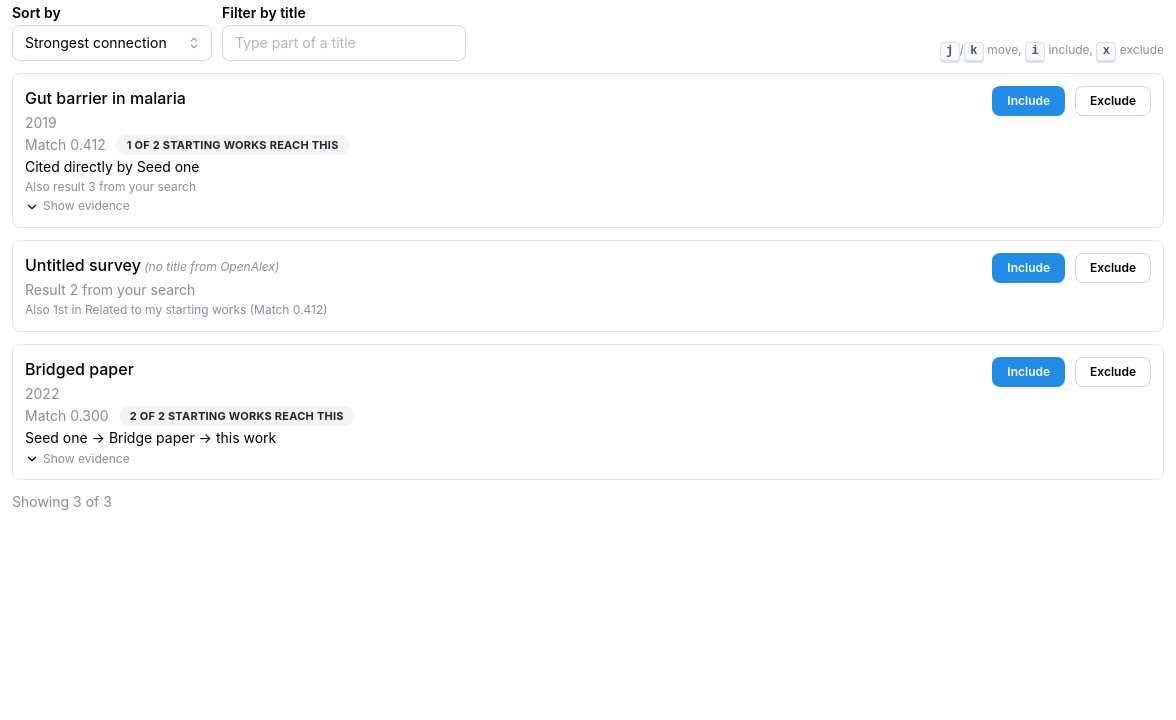
ScreeningList › expands the evidence panel with the seed-reach sentence
Step 1. Click the button "Show evidence" below "Also result 3 from your search" → (86,206), box [25,198,980,215]
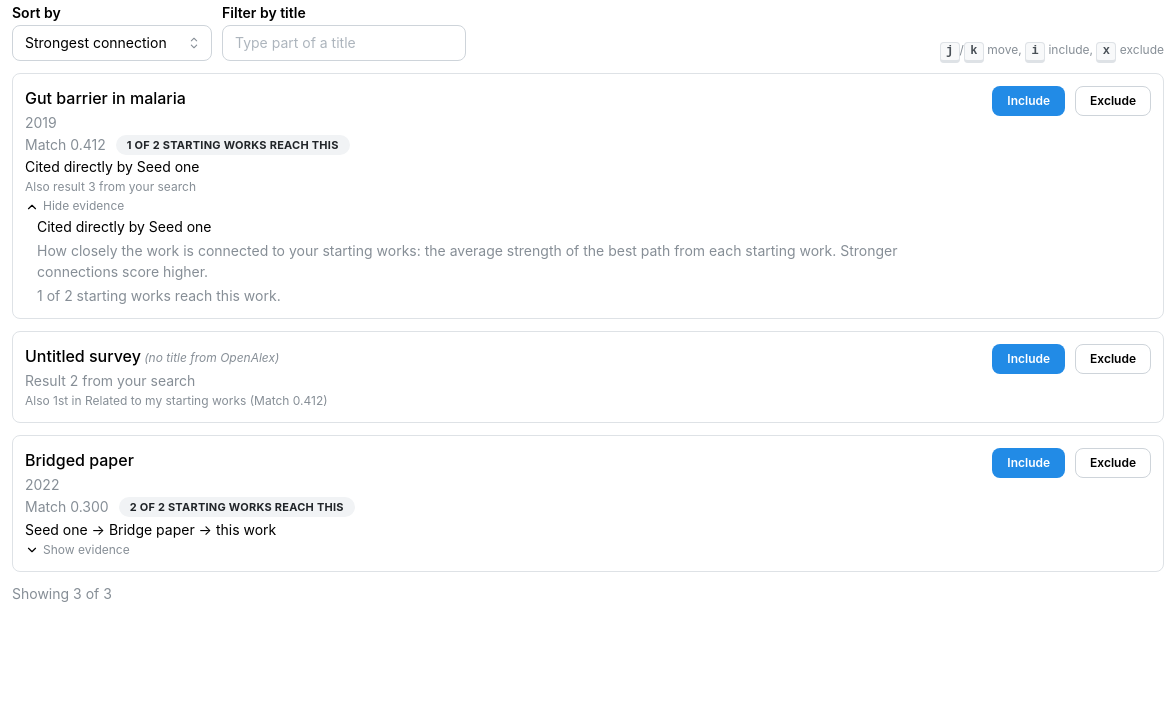
Result: the text "1 of 2 starting works reach this work." is shown at [37,287,281,304]
Result: the text "average strength of the best path" is shown at [37,242,898,280]
